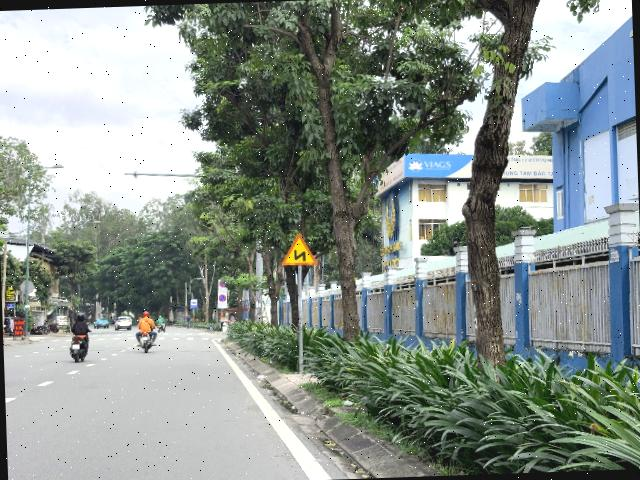nhieu-cho-ngoat-nguy-hiem-lien-tiep: (281, 233, 317, 266)
